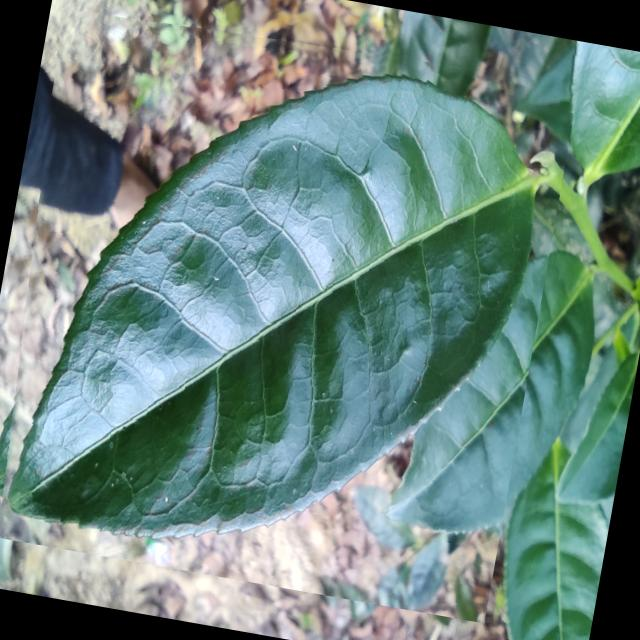Category D(7+ days, Not for Tea): (0, 0, 579, 623)
